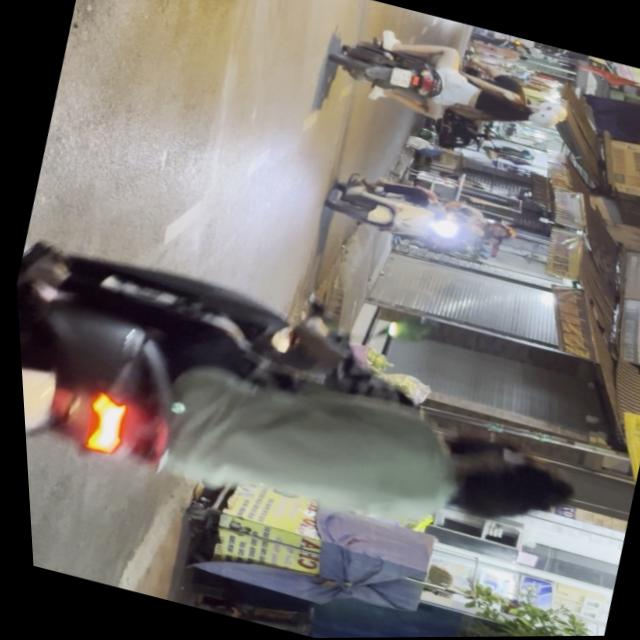helmet: (520, 104, 561, 133), (478, 221, 515, 245)
licenseplate: (11, 223, 608, 598), (320, 20, 575, 153), (200, 0, 608, 82), (314, 164, 523, 272)
motorcyclist: (429, 438, 576, 543)
nohelmet: (17, 361, 55, 438), (387, 67, 412, 90)
